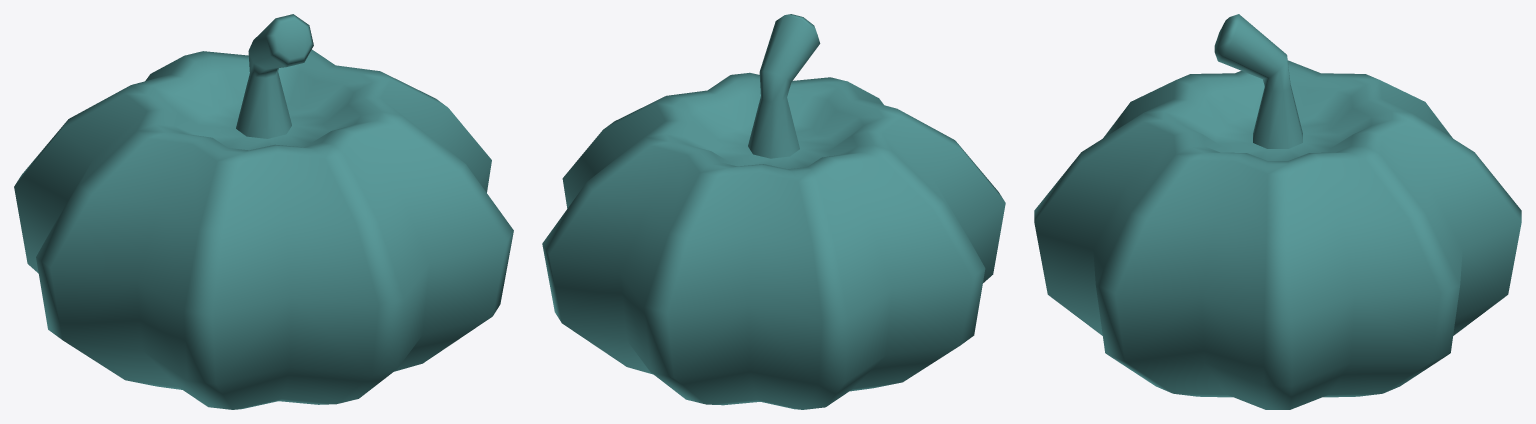
File: Pumpkin.fbx
3 renders of one model, left to right at view 1: azimuth 30°, elevation 25°; view 2: azimuth 150°, elevation 25°; view 3: azimuth 270°, elevation 25°, orthographic. The views are drawn at different scales.
Parts seen in each view (by area): view 1: Pumpkin; view 2: Pumpkin; view 3: Pumpkin.
Boxes of the visible parts, x1,y1,x2,y2 form: Pumpkin: (14,14,513,409); Pumpkin: (542,14,1005,409); Pumpkin: (1034,14,1521,409).
Bounding box in the file's own units: 155 × 120 × 155.
